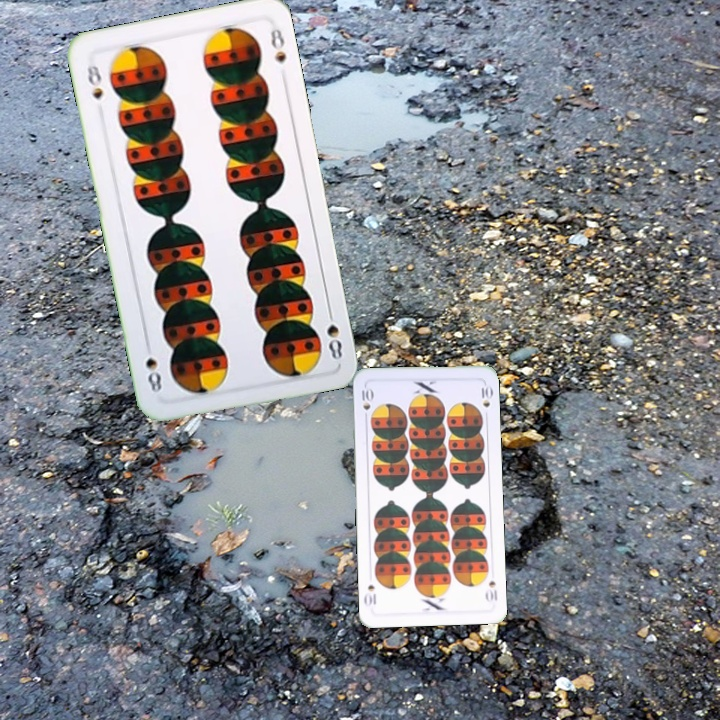S10: (358, 384, 374, 423), (482, 577, 500, 604)
S8: (322, 303, 345, 363), (83, 61, 106, 102)
